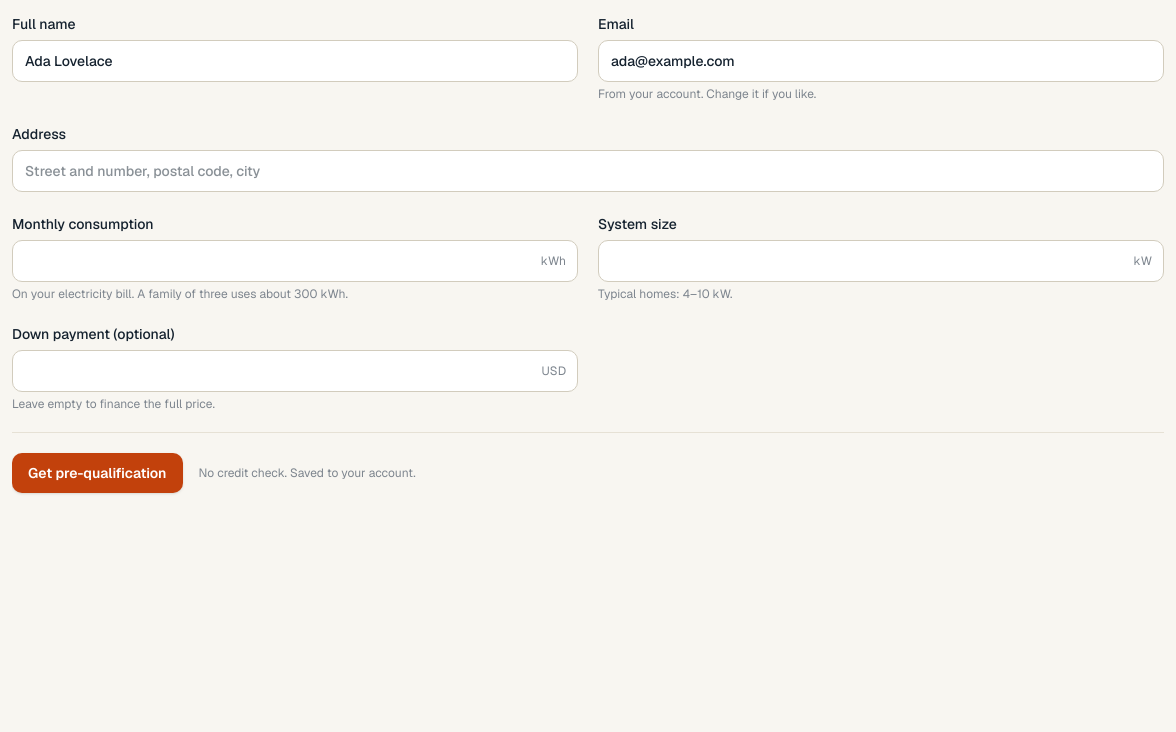
Test: QuoteForm › explains a failed request and lets you try again
Type "12 St James's Square" into the field labelled "Address".
click(588, 171); type("12 St James's Square")  # box [12,150,1164,192]
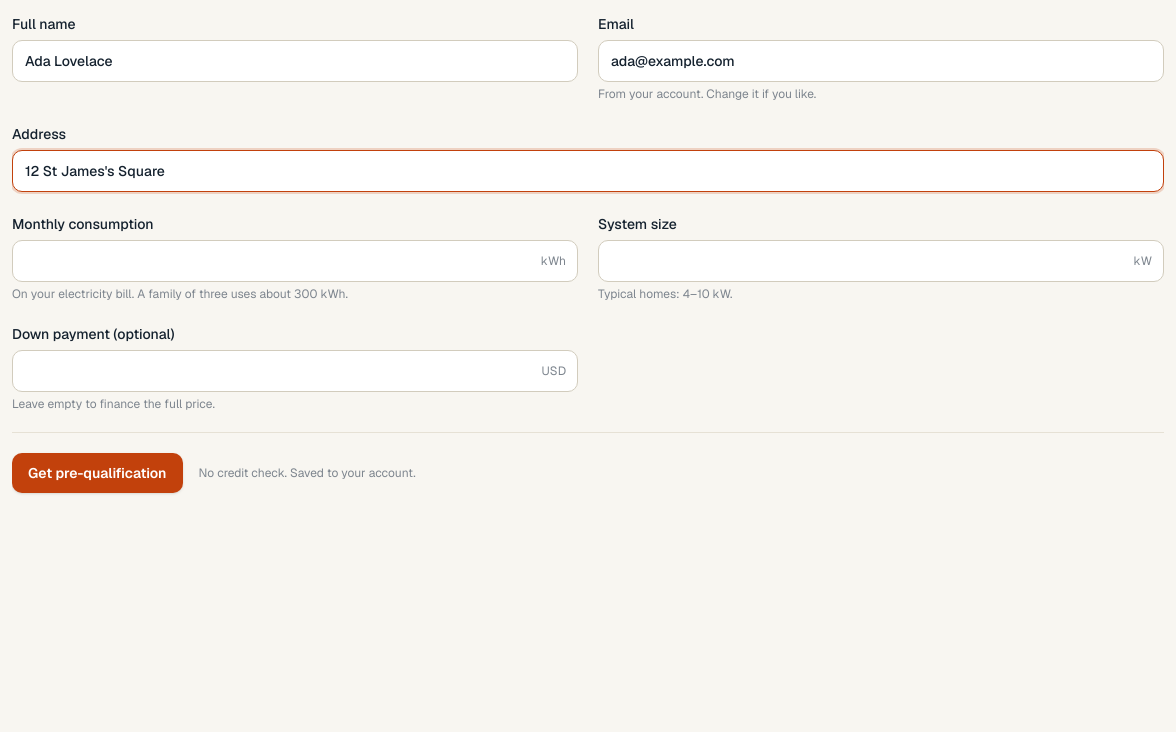
Type "500" into the field labelled "Monthly consumption".
click(295, 261); type("500")  # box [12,240,578,282]
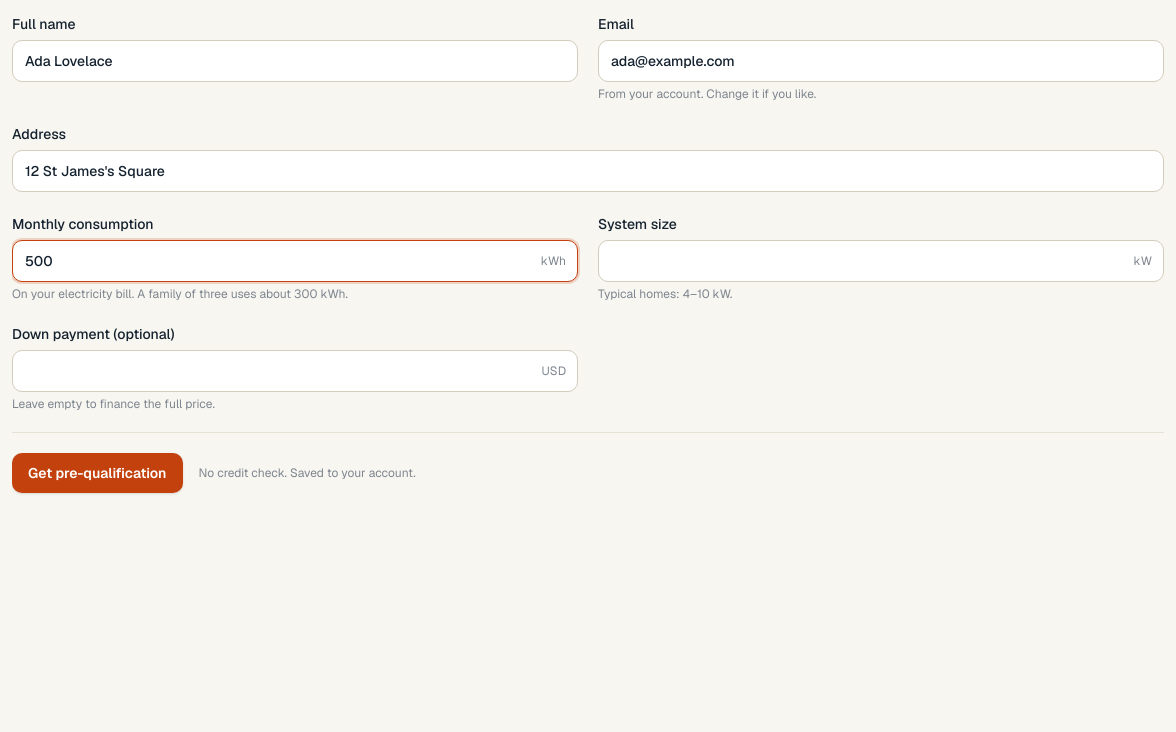
Type "5" into the field labelled "System size".
click(881, 261); type("5")  # box [598,240,1164,282]
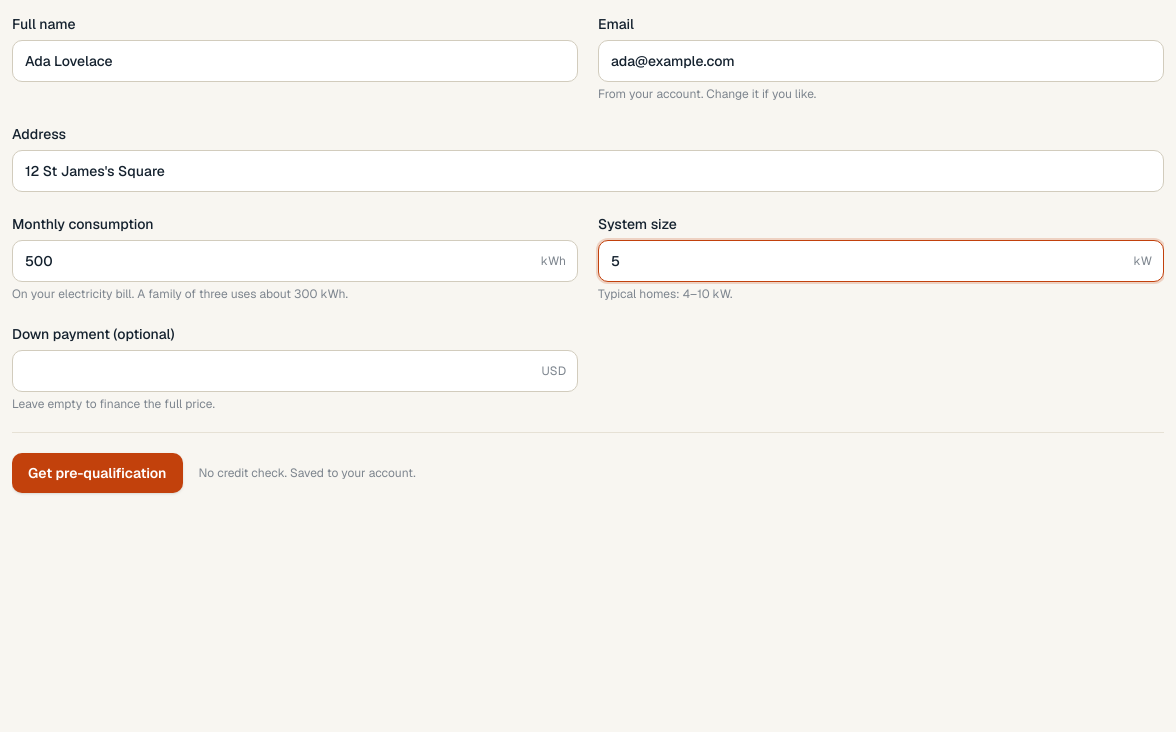
Type "1000" into the field labelled "Down payment (optional)".
click(295, 371); type("1000")  # box [12,350,578,392]
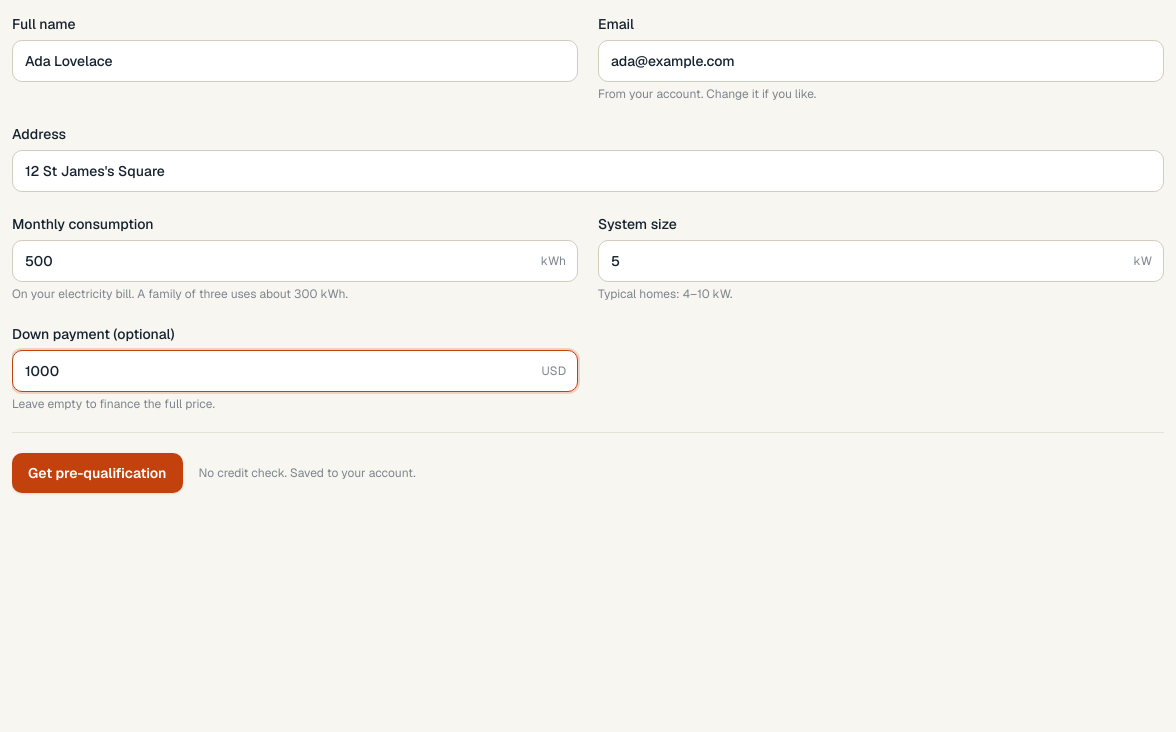
Click the button "Get pre-qualification".
click(97, 473)  # box [12,453,182,493]
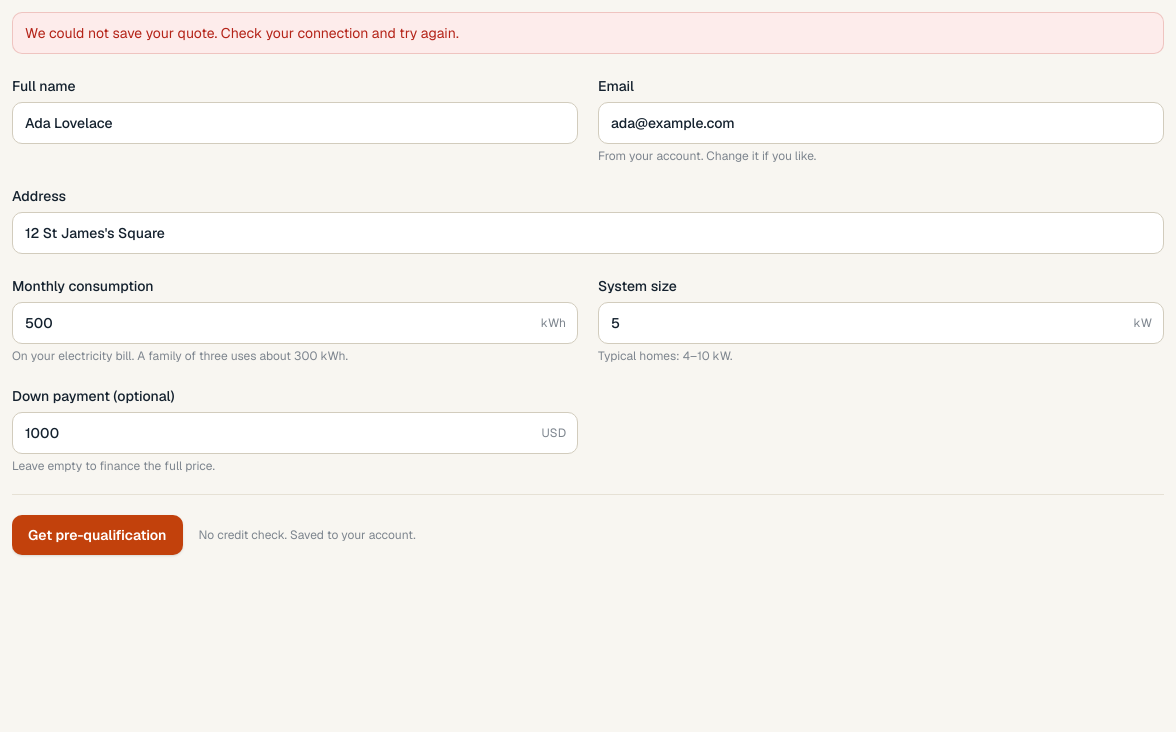
Expected: the button "Get pre-qualification" is enabled, [12,515,182,555]
Expected: the text "could not save your quote" is shown, [25,24,459,42]
